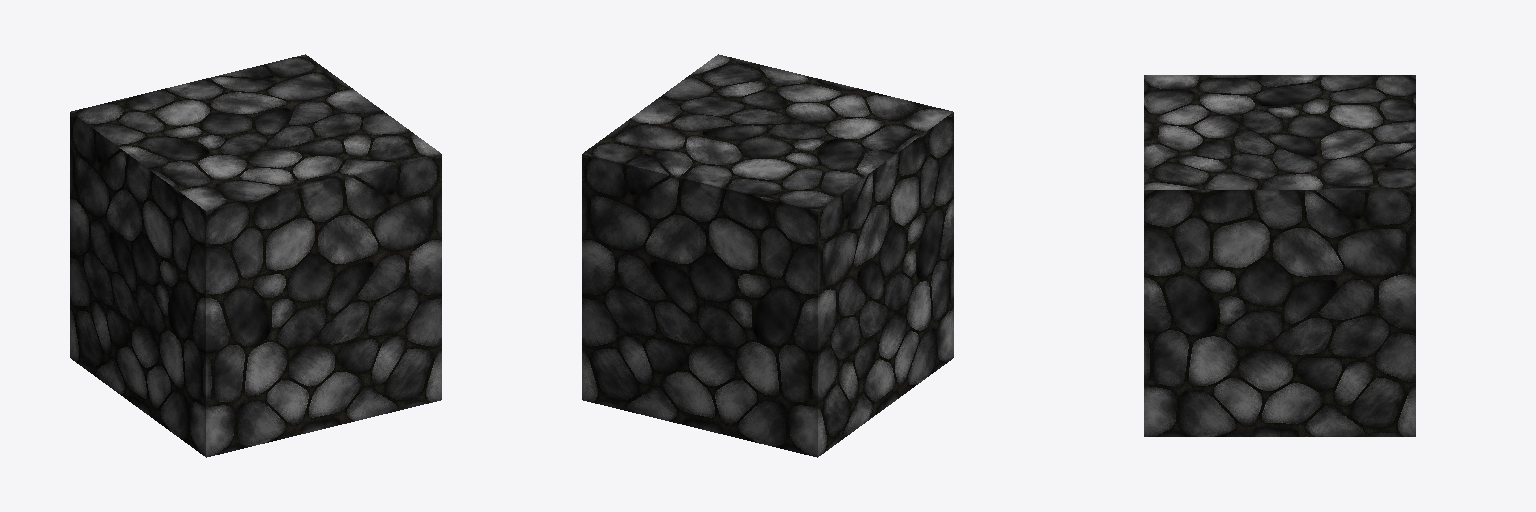
3 renders of one model, left to right at view 1: azimuth 30°, elevation 25°; view 2: azimuth 150°, elevation 25°; view 3: azimuth 270°, elevation 25°, orthographic.
Parts seen in each view (by area): view 1: Cube; view 2: Cube; view 3: Cube.
Part boxes in pixels (x1,y1,x2,y2): Cube: (70, 54, 441, 457); Cube: (582, 54, 953, 457); Cube: (1144, 75, 1415, 436).
Size of the model in its own units: 2 by 2 by 2.
1 materials, 1 textured.